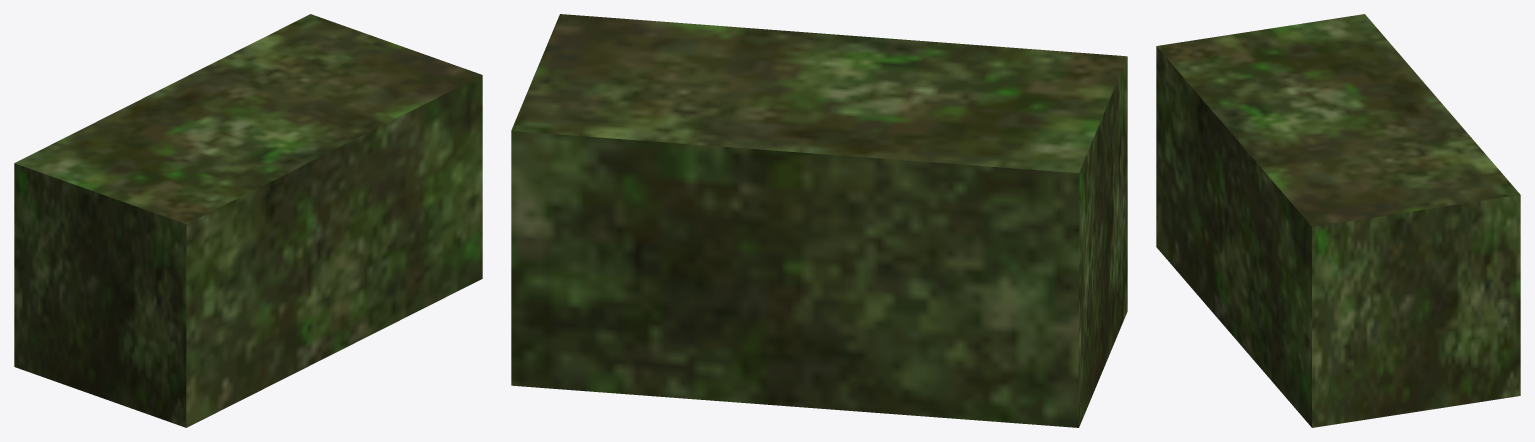
The model's file is OVERHILL_A_01_STONE_BLOCK_02.fbx.
The picture shows the model from 3 angles, left to right: view 1: azimuth 30°, elevation 25°; view 2: azimuth 150°, elevation 25°; view 3: azimuth 270°, elevation 25°; orthographic projection. The views are drawn at different scales.
Parts seen in each view (by area): view 1: OVERHILL_A_01_STONE_BLOCK_02; view 2: OVERHILL_A_01_STONE_BLOCK_02; view 3: OVERHILL_A_01_STONE_BLOCK_02.
Boxes of the visible parts, box(x1,y1,x2,y2) form: OVERHILL_A_01_STONE_BLOCK_02: box(14, 14, 482, 427); OVERHILL_A_01_STONE_BLOCK_02: box(511, 14, 1127, 427); OVERHILL_A_01_STONE_BLOCK_02: box(1156, 14, 1520, 427).
Size of the model in its own units: 17960 by 7913 by 12987.
Materials: 1 (1 with a texture image).
